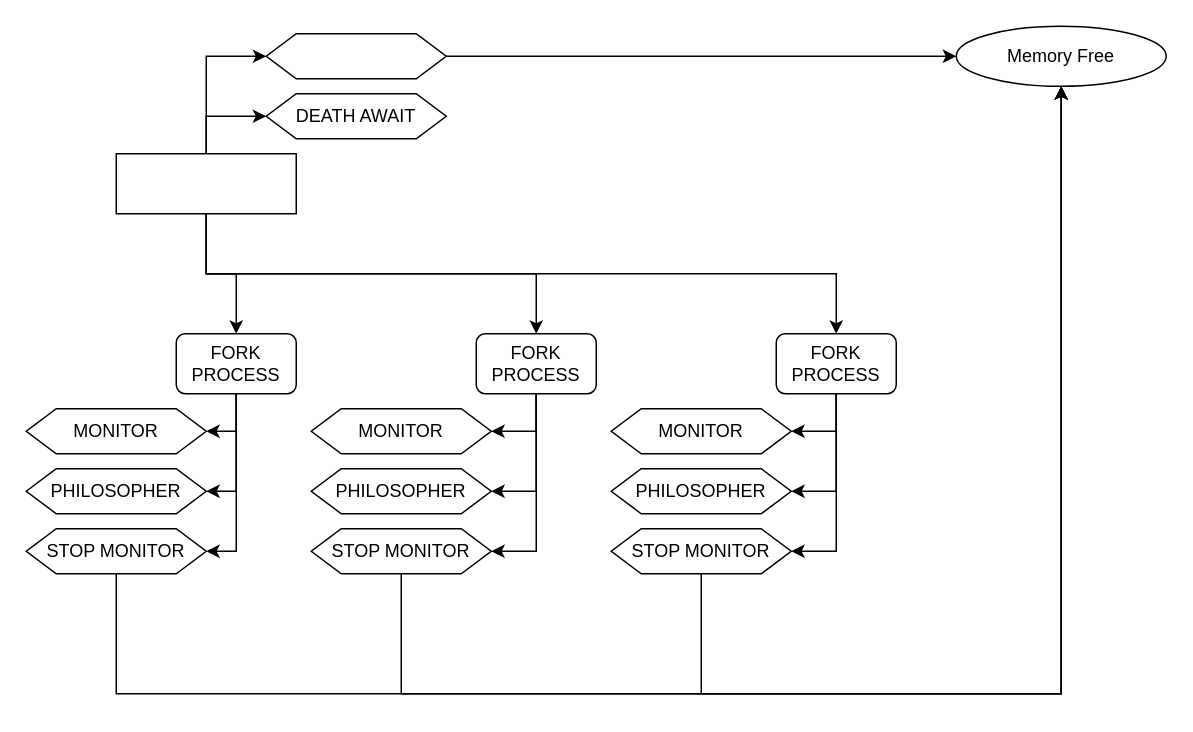
This 1193x732 diagram has some shape labels left out. The centre of each missing label's shape, as x and y in pixels:
ROOT PROCESS: [205,183]
STOP AWAIT: [355,55]
